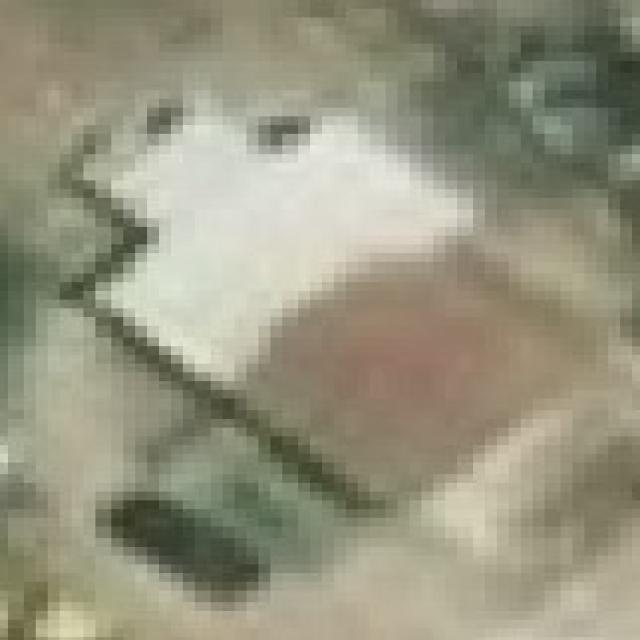Batiment: (113, 111, 564, 493)
